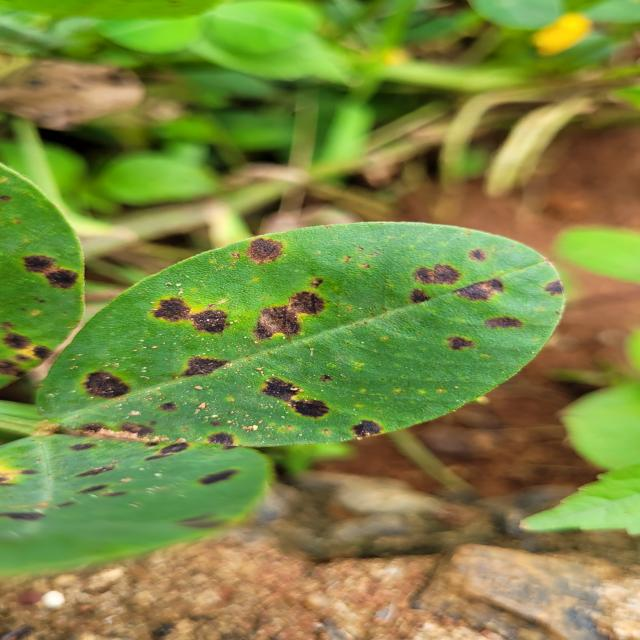Ground nut_tikka leaf spot: (46, 220, 571, 450)
